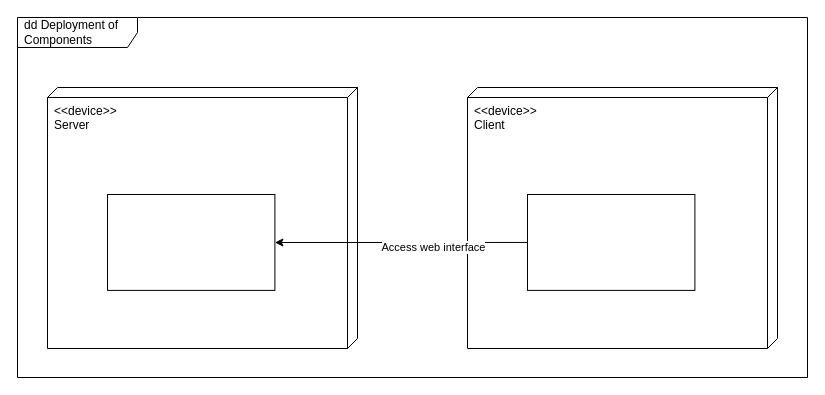
This 825x395 diagram has some shape labels left out. Here are the shapes that lost their labels. From the top down, the centre of each, then its label:
point (190, 242): <<executable>> planingpoker.jar
point (610, 242): <<executable>> Web Browser
